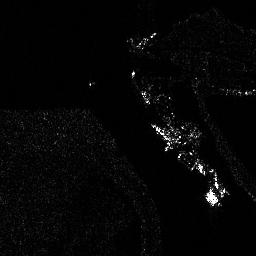ship: (150, 122, 176, 150)
